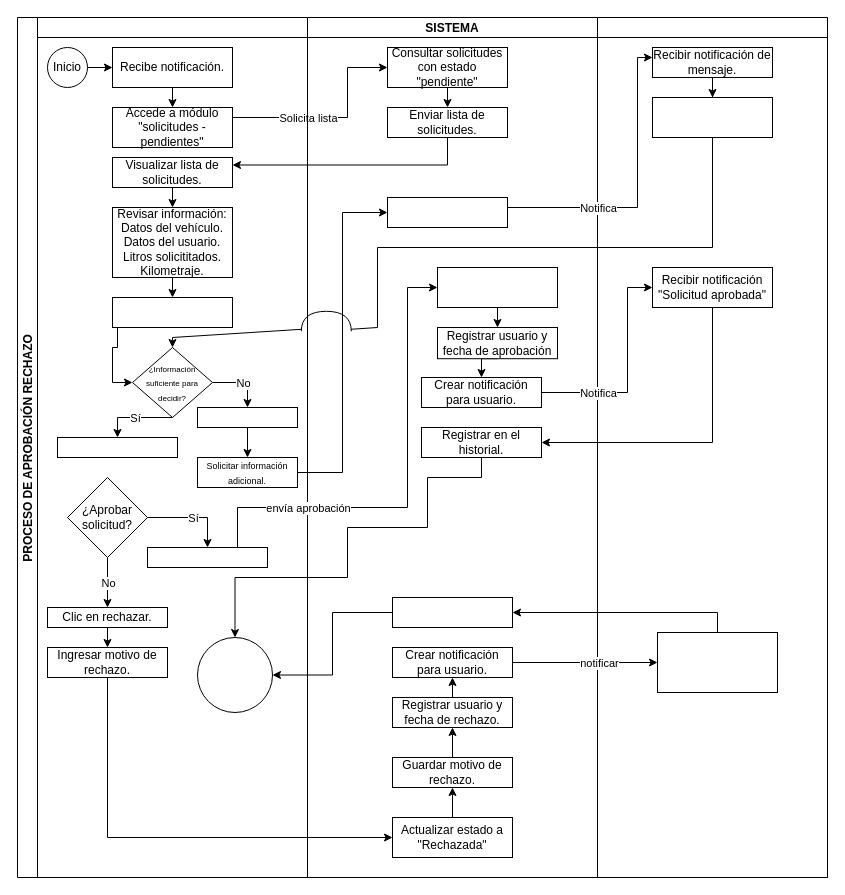
Some shapes in this 845 by 895 pixel diagram are drawn without their labels. The shapes that lost their labels are listed below. From the top down, each one's box as (x1, y1, x2, y2) in pixels, then its label:
(652, 96, 772, 138): Responder con información solicitada.
(386, 196, 508, 228): Crear mensaje en chat.
(436, 266, 558, 308): Actualizar estado a "Aprobada"
(112, 296, 232, 328): Revisar evidencias fotográficas.
(196, 406, 298, 428): Abrir chat con usuario.
(56, 436, 178, 458): Tomar decisión
(36, 16, 308, 878): CONTABILIDAD
(596, 16, 828, 878): USUARIO
(146, 546, 268, 568): Clic en "Aprobar"
(392, 596, 512, 628): Registrar en historial.
(196, 636, 272, 712): Fin
(656, 632, 778, 692): Recibir notificación "Solicitud rechazada: [motivo]"
